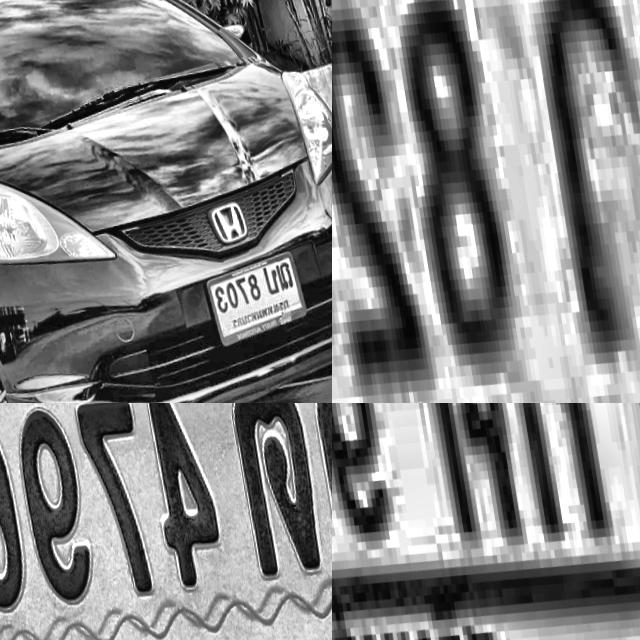license-plate: (332, 0, 640, 403), (0, 403, 332, 640), (332, 403, 640, 640), (198, 231, 312, 349)
